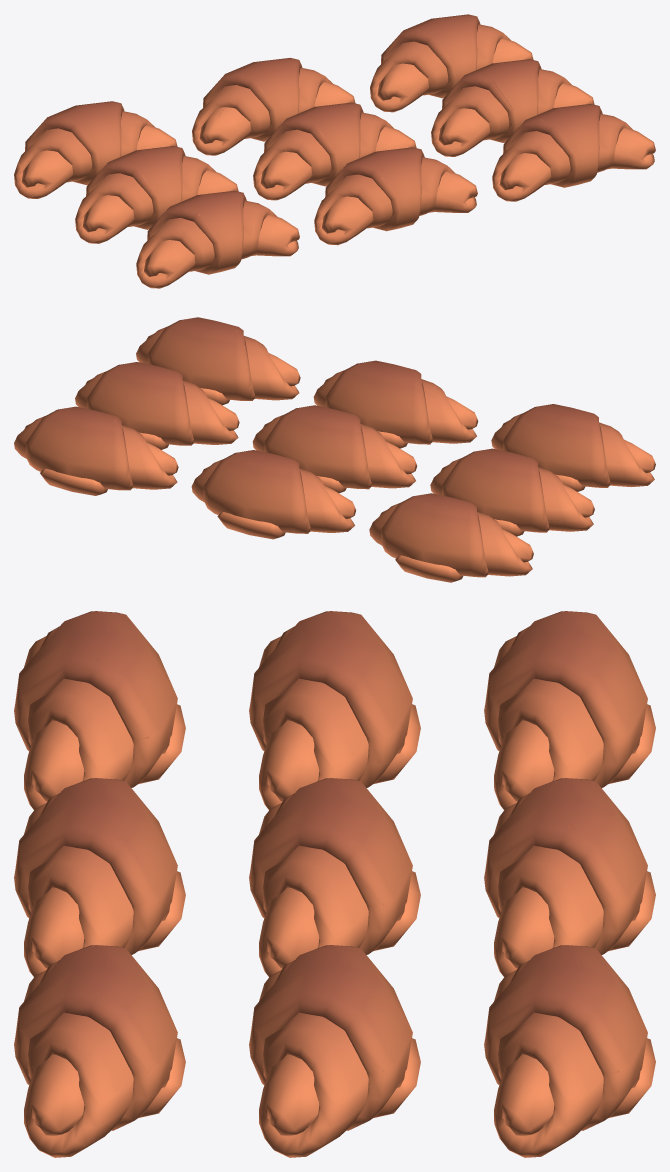
Rendered from m_croissants.fbx.
3 renders of one model, top to bottom at view 1: azimuth 30°, elevation 25°; view 2: azimuth 150°, elevation 25°; view 3: azimuth 270°, elevation 25°, orthographic. The views are drawn at different scales.
Parts seen in each view (by area): view 1: croissants; view 2: croissants; view 3: croissants.
Part boxes in pixels (x1,y1,x2,y2): croissants: [14, 14, 655, 288]; croissants: [14, 317, 655, 582]; croissants: [14, 611, 655, 1157].
Size of the model in its own units: 50.37 by 6.71 by 28.35.
